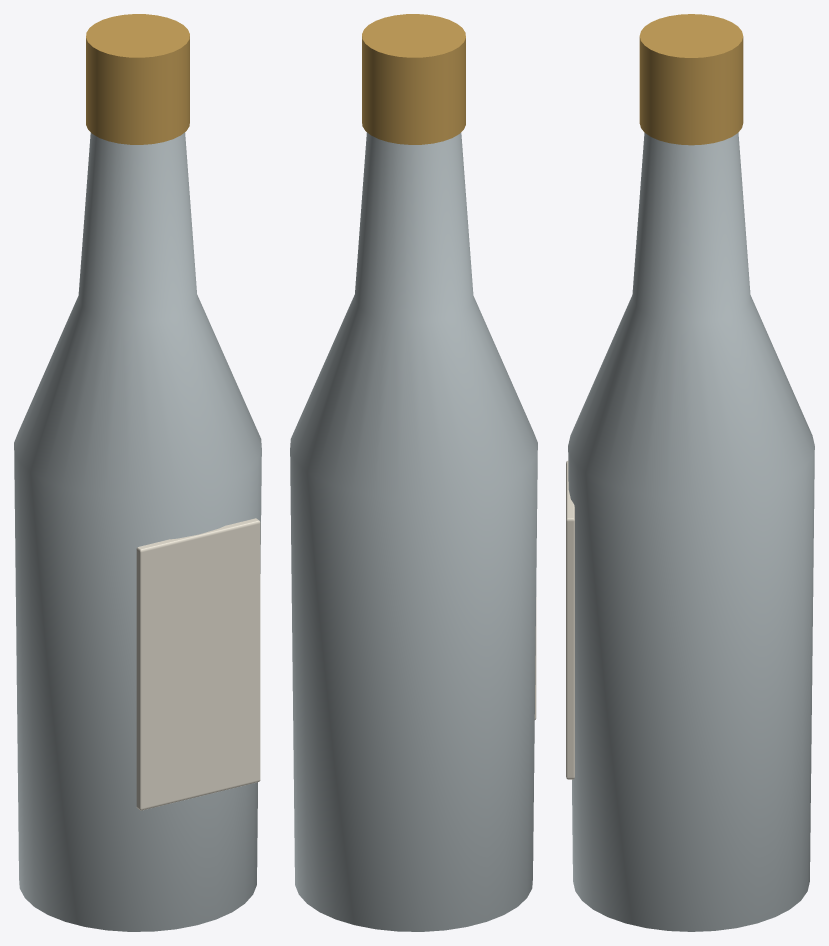
Rendered from wp-bouteille-d-huile.glb.
The picture shows the model from 3 angles, left to right: view 1: azimuth 30°, elevation 25°; view 2: azimuth 150°, elevation 25°; view 3: azimuth 270°, elevation 25°; orthographic projection.
Parts seen in each view (by area): view 1: wp-bouteille-d-huile; view 2: wp-bouteille-d-huile; view 3: wp-bouteille-d-huile.
Boxes of the visible parts, bbox=[...] form: wp-bouteille-d-huile: bbox=[14, 14, 261, 931]; wp-bouteille-d-huile: bbox=[290, 14, 537, 931]; wp-bouteille-d-huile: bbox=[566, 14, 814, 931].
Bounding box in the file's own units: 0.08 × 0.3 × 0.08.
